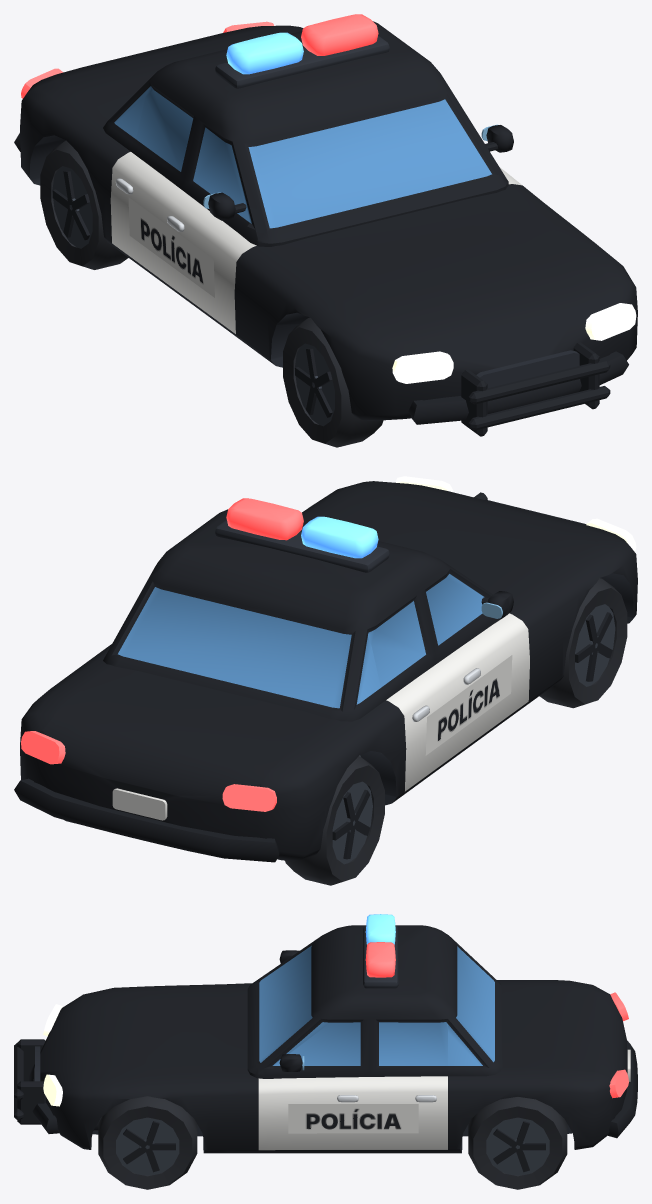
File: viatura_policia.glb
3 views of the same model, one above another, from view 1: azimuth 30°, elevation 25°; view 2: azimuth 150°, elevation 25°; view 3: azimuth 270°, elevation 25° (orthographic). The views are drawn at different scales.
Parts seen in each view (by area): view 1: viatura_policia, porta_dianteira_esq, porta_traseira_esq, roda_dianteira_esq, roda_traseira_esq, porta_malas, sirene; view 2: viatura_policia, porta_malas, porta_dianteira_esq, porta_traseira_esq, roda_traseira_esq, roda_dianteira_esq, sirene; view 3: viatura_policia, porta_dianteira_dir, porta_malas, porta_traseira_dir, roda_dianteira_dir, roda_traseira_dir, sirene.
Boxes of the visible parts, x1=… form: viatura_policia: x1=14, y1=21, x2=637, y2=436; porta_dianteira_esq: x1=128, y1=119, x2=257, y2=333; porta_traseira_esq: x1=110, y1=81, x2=197, y2=280; roda_dianteira_esq: x1=283, y1=317, x2=383, y2=447; roda_traseira_esq: x1=40, y1=140, x2=128, y2=269; porta_malas: x1=44, y1=26, x2=282, y2=114; sirene: x1=226, y1=14, x2=378, y2=74; viatura_policia: x1=14, y1=476, x2=637, y2=862; porta_malas: x1=42, y1=670, x2=325, y2=804; porta_dianteira_esq: x1=421, y1=569, x2=529, y2=755; porta_traseira_esq: x1=367, y1=593, x2=456, y2=791; roda_traseira_esq: x1=285, y1=756, x2=384, y2=885; roda_dianteira_esq: x1=539, y1=578, x2=627, y2=708; sirene: x1=226, y1=498, x2=378, y2=558; viatura_policia: x1=14, y1=925, x2=637, y2=1153; porta_dianteira_dir: x1=258, y1=1019, x2=418, y2=1150; porta_malas: x1=511, y1=986, x2=626, y2=1078; porta_traseira_dir: x1=370, y1=1019, x2=447, y2=1149; roda_dianteira_dir: x1=98, y1=1096, x2=197, y2=1189; roda_traseira_dir: x1=468, y1=1097, x2=567, y2=1189; sirene: x1=365, y1=914, x2=395, y2=977.
Size of the model in its own units: 1.94 by 1.63 by 4.55.
Materials: 6 (2 with a texture image).
